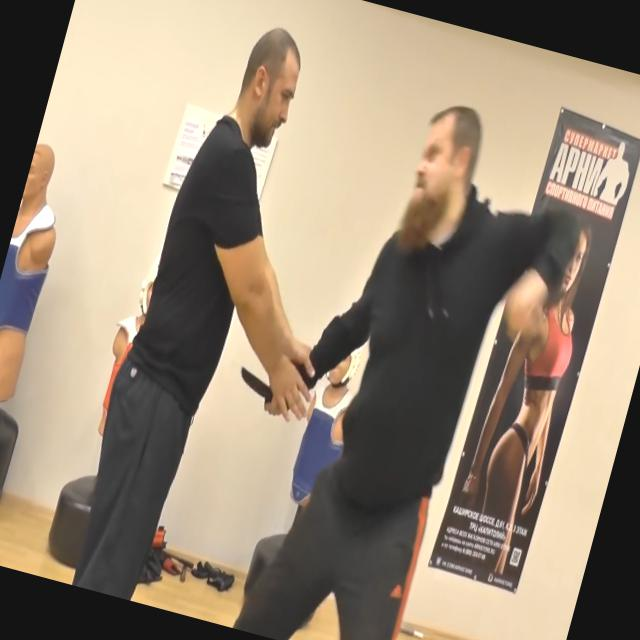knife: (228, 362, 300, 422)
